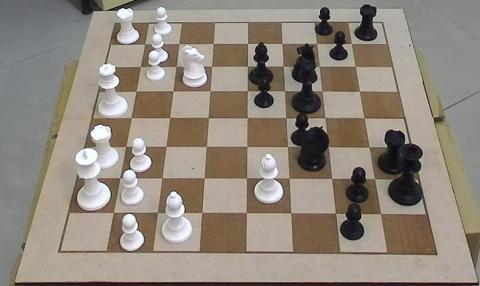xcorner: (348, 39, 358, 49), (313, 39, 323, 49), (174, 40, 184, 50), (140, 40, 150, 50), (279, 62, 289, 72), (318, 87, 328, 97), (243, 87, 253, 97), (168, 87, 178, 97), (360, 114, 370, 124), (321, 114, 331, 124), (282, 114, 292, 124), (243, 114, 253, 124), (204, 114, 214, 124), (165, 114, 175, 124), (126, 114, 136, 124), (365, 143, 375, 153), (324, 143, 334, 153), (283, 143, 293, 153), (370, 175, 380, 185), (285, 175, 295, 185), (242, 175, 252, 185), (157, 175, 167, 185), (376, 210, 386, 220), (331, 210, 341, 220), (242, 210, 252, 220), (197, 210, 207, 220), (152, 210, 162, 220), (108, 210, 118, 220), (278, 40, 288, 49), (209, 40, 219, 49), (352, 62, 361, 72), (316, 62, 325, 72), (243, 63, 253, 72), (207, 63, 217, 72), (171, 63, 181, 72), (136, 63, 145, 73), (356, 87, 365, 97), (281, 87, 290, 97), (206, 87, 215, 97), (131, 88, 141, 97), (243, 143, 252, 153), (161, 144, 171, 153), (120, 144, 130, 153), (328, 175, 337, 185), (200, 175, 209, 185), (114, 176, 124, 185), (287, 210, 296, 220), (244, 40, 253, 49), (202, 144, 211, 153)
